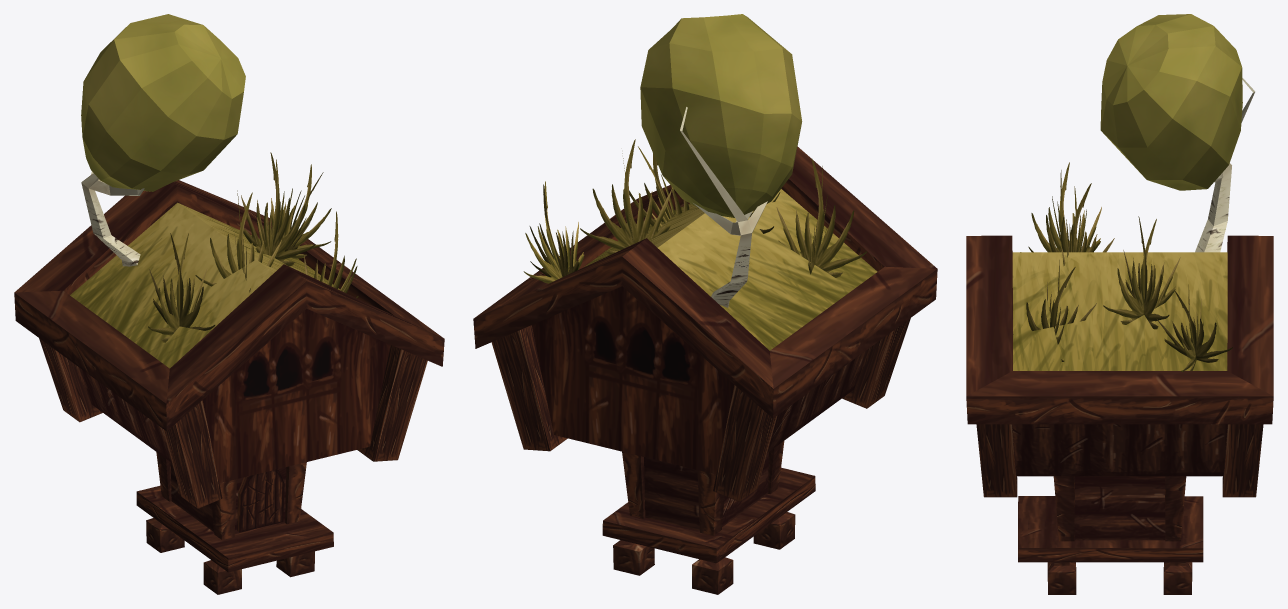
The picture shows the model from 3 angles, left to right: view 1: azimuth 30°, elevation 25°; view 2: azimuth 150°, elevation 25°; view 3: azimuth 270°, elevation 25°; orthographic projection. The views are drawn at different scales.
Parts seen in each view (by area): view 1: Building_0, Tree_1, Grass1_0, Grass2.4_0 (×5), Door_0, Tree_0; view 2: Building_0, Tree_1, Grass1_0, Grass2.4_0 (×4), Tree_0; view 3: Building_0, Grass1_0, Tree_1, Grass2.4_0 (×5), Tree_0.
Boxes of the visible parts, x1=… form: Building_0: x1=14, y1=180, x2=444, y2=594; Tree_1: x1=81, y1=14, x2=245, y2=191; Grass1_0: x1=70, y1=202, x2=339, y2=368; Grass2.4_0 (×5): x1=148, y1=152, x2=358, y2=342; Door_0: x1=237, y1=469, x2=284, y2=532; Tree_0: x1=81, y1=171, x2=144, y2=266; Building_0: x1=473, y1=146, x2=937, y2=594; Tree_1: x1=640, y1=14, x2=802, y2=217; Grass1_0: x1=583, y1=189, x2=877, y2=350; Grass2.4_0 (×4): x1=523, y1=139, x2=866, y2=283; Tree_0: x1=680, y1=107, x2=767, y2=307; Building_0: x1=966, y1=235, x2=1273, y2=594; Grass1_0: x1=1012, y1=252, x2=1227, y2=370; Tree_1: x1=1100, y1=14, x2=1242, y2=190; Grass2.4_0 (×5): x1=1013, y1=162, x2=1232, y2=371; Tree_0: x1=1195, y1=78, x2=1255, y2=252.
Size of the model in its own units: 2.97 by 4.53 by 2.39.
Materials: 5 (5 with a texture image).
